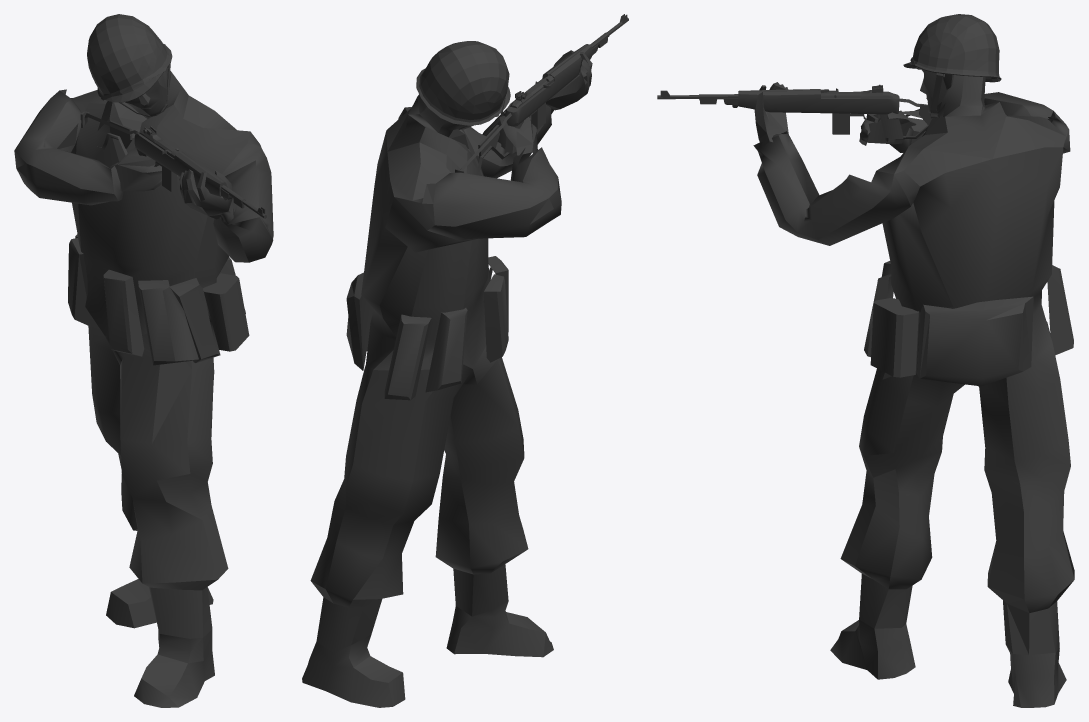
The model's file is us_carabina_piedi.glb.
3 renders of one model, left to right at view 1: azimuth 30°, elevation 25°; view 2: azimuth 150°, elevation 25°; view 3: azimuth 270°, elevation 25°, orthographic.
Parts seen in each view (by area): view 1: Object.004_Object.017_2; view 2: Object.004_Object.017_2; view 3: Object.004_Object.017_2.
Part boxes in pixels (left/top/right/bottom): Object.004_Object.017_2: left=14, top=14, right=273, bottom=707; Object.004_Object.017_2: left=302, top=14, right=628, bottom=707; Object.004_Object.017_2: left=657, top=14, right=1074, bottom=707.
Size of the model in its own units: 0.1767 by 0.5046 by 0.2991.
1 material, 1 textured.
